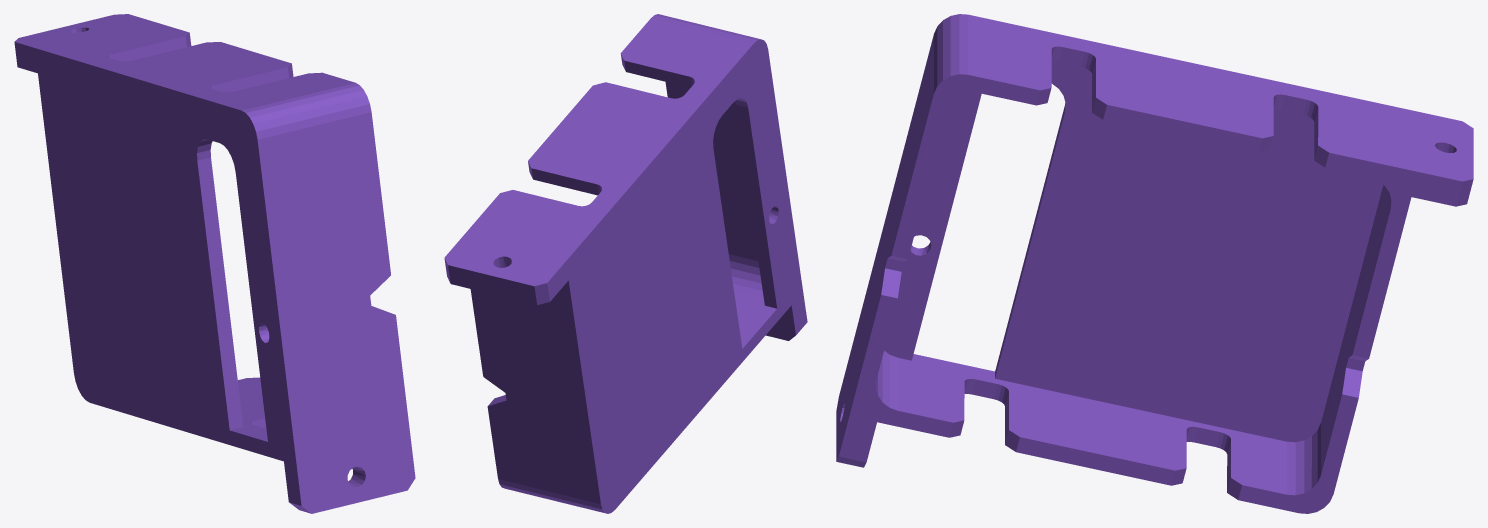
The model's file is converted_Downdraft_Assy_8_8358c5ff.obj.
The picture shows the model from 3 angles, left to right: view 1: azimuth 30°, elevation 25°; view 2: azimuth 150°, elevation 25°; view 3: azimuth 270°, elevation 25°; orthographic projection. The views are drawn at different scales.
Size of the model in its own units: 0.0251 by 0.085 by 0.1117.
